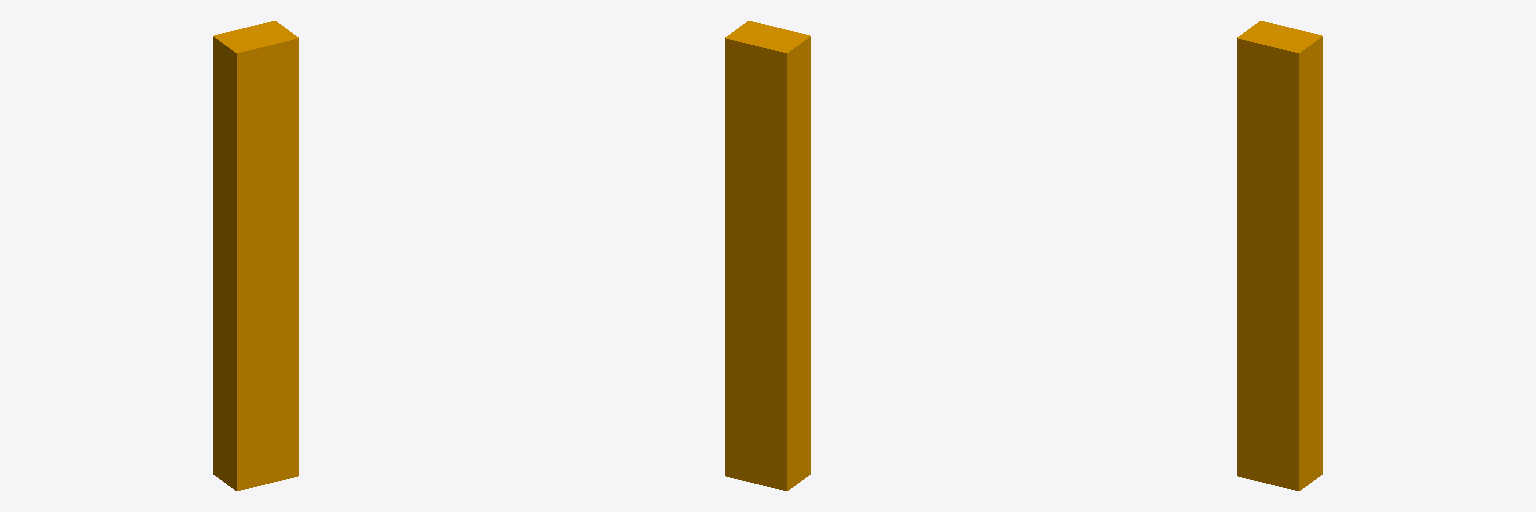
The robot description file, URDF, robot "simple_box":
<robot name="simple_box">
  <link name="my_box">
    <inertial>
      <origin xyz="0.0 0.0 0.1" />
      <mass value="0.10" />
      <inertia  ixx="1e-3" ixy="0.0"  ixz="0.0"  iyy="1e-3"  iyz="0.0"  izz="1e-3" />
    </inertial>
    <visual>
      <origin xyz="0 0 0.1"/>
      <geometry>
        <box size="0.03 0.02 0.2" />
      </geometry>
    </visual>
    <collision>
      <origin xyz="0 0 0.1"/>
      <geometry>
        <box size="0.03 0.02 0.2" />
      </geometry>
    </collision>
  </link>
  <gazebo reference="my_box">
    <mu1>100</mu1>
    <mu2>100</mu2>
    <material>Gazebo/Blue</material>
  </gazebo>
</robot>

--- What the picture shows (computed from the rendered views, not written in the file) ---
The picture shows the robot from 3 angles, left to right: view 1: azimuth 30°, elevation 25°; view 2: azimuth 150°, elevation 25°; view 3: azimuth 330°, elevation 25°; orthographic projection.
Model simple_box with 1 links and 0 joints (none), rooted at my_box, posed every joint at zero.
Links seen in each view (by area): view 1: my_box; view 2: my_box; view 3: my_box.
Link boxes in pixels (x1,y1,x2,y2): my_box: (213, 21, 298, 490); my_box: (725, 21, 810, 490); my_box: (1237, 21, 1322, 490).
Size in the robot's own frame: 0.03 by 0.02 by 0.2 metres.
Geometry: primitives only (box / cylinder / sphere), no mesh files.